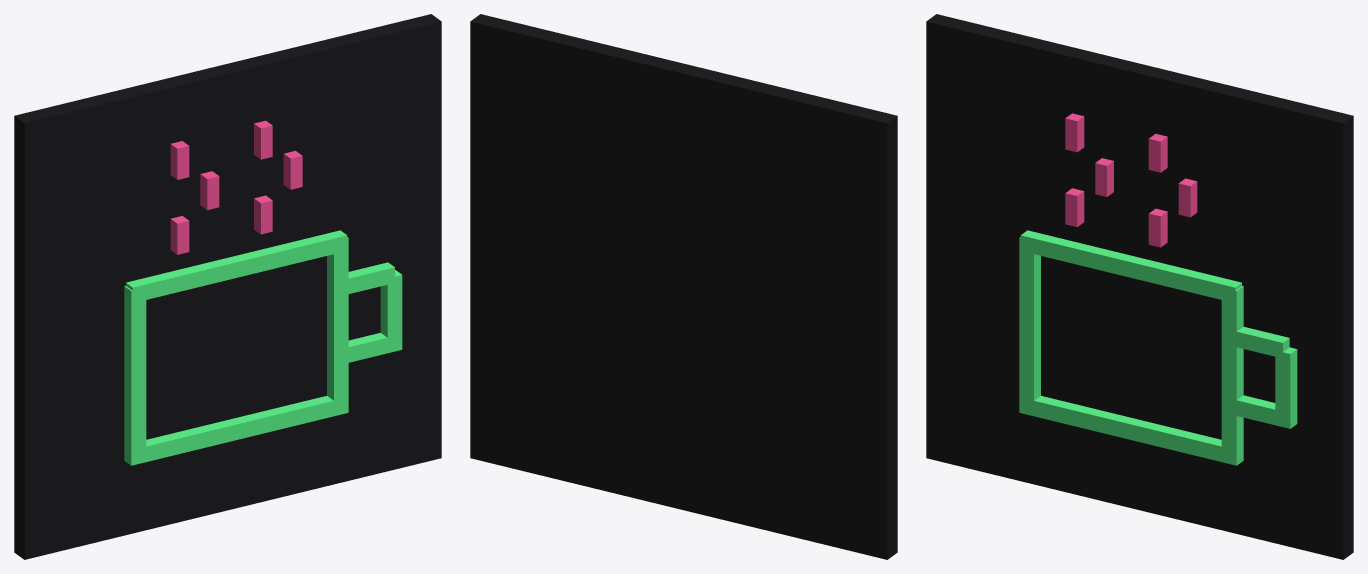
The model's file is neon_cup_sign.obj.
3 renders of one model, left to right at view 1: azimuth 30°, elevation 25°; view 2: azimuth 150°, elevation 25°; view 3: azimuth 330°, elevation 25°, orthographic.
Parts seen in each view (by area): view 1: neon_cup_sign; view 2: neon_cup_sign; view 3: neon_cup_sign.
Boxes of the visible parts, x1,y1,x2,y2 form: neon_cup_sign: (14,14,441,559); neon_cup_sign: (470,14,897,559); neon_cup_sign: (926,14,1353,559).
Size of the model in its own units: 0.7 by 0.7 by 0.05.
